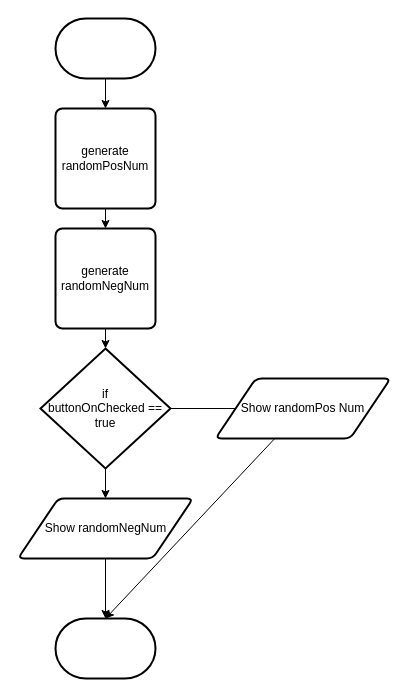
The diagram is 409 pixels wide and 696 high, and some of its shapes have lost their labels. The shapes that lost their labels are listed below. From the top down, each one's centre as x and y in pixels, then its label:
At (x=105, y=48): "Start".
At (x=105, y=648): "Stop".
